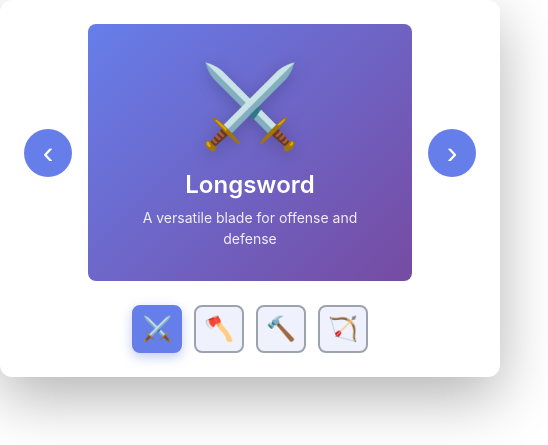
Test: WeaponPicker › navigates to next weapon when next button is clicked
Click the button named "Next weapon": [452, 152] box x1=428 y1=128 x2=476 y2=176
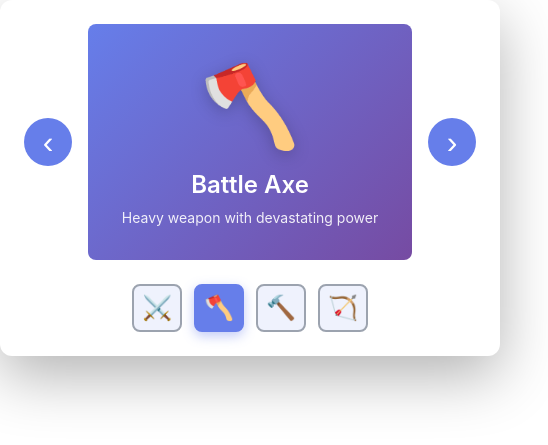
Now the heading "Battle Axe" is shown, box x1=191 y1=170 x2=309 y2=199
Now the text "Heavy weapon with devastating power" is shown, box x1=122 y1=207 x2=378 y2=228
